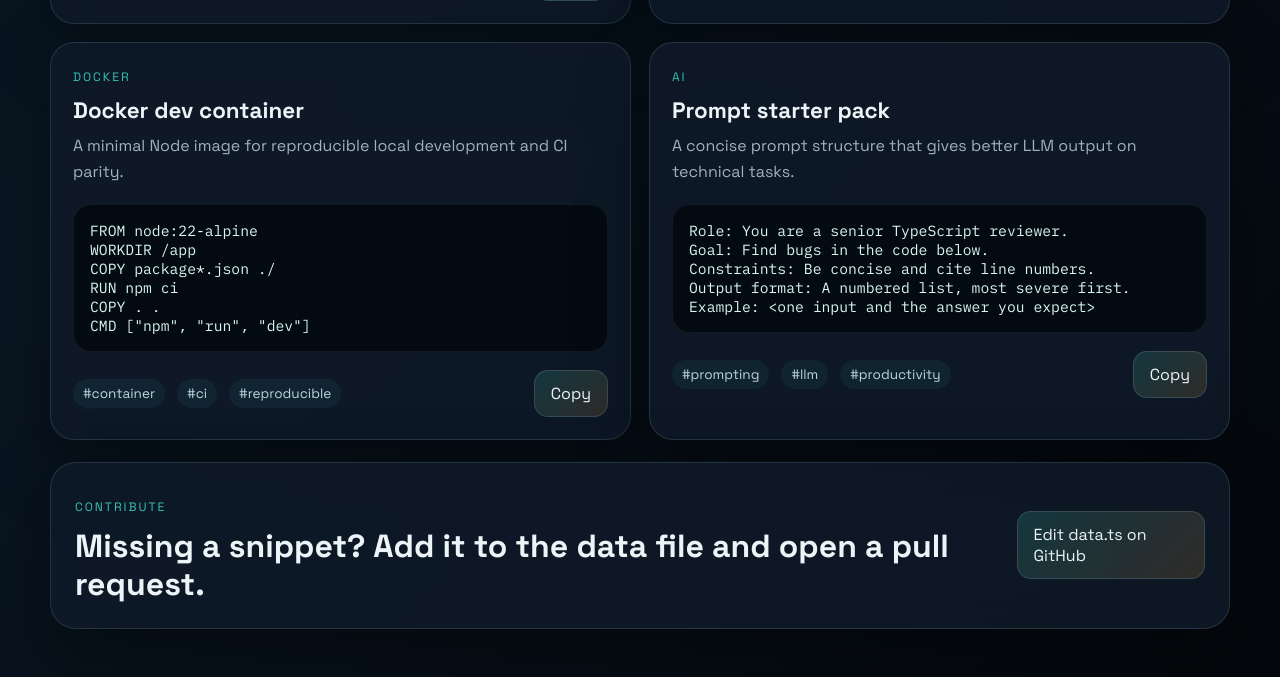
it: copy button › copies the snippet and shows Copied
(page scrolled)
Click the button with aria-label "Copy the Docker dev container snippet" at (571, 393), box [534,370,608,417]
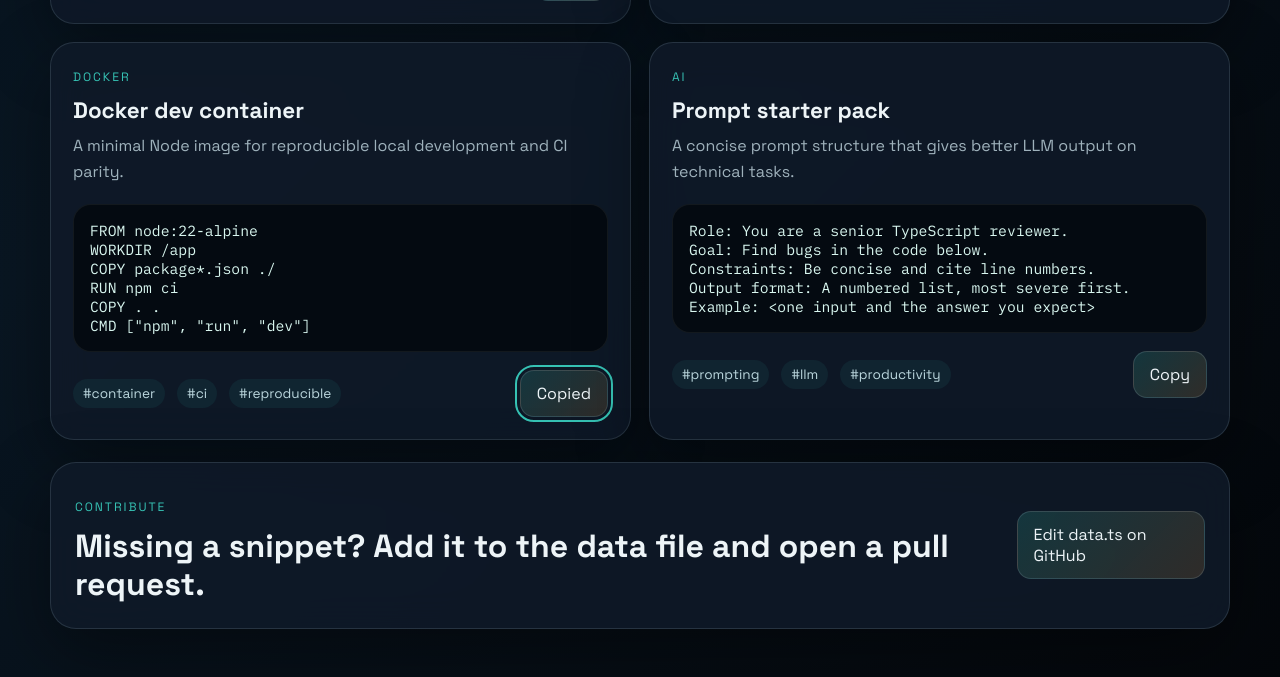
Now the button with aria-label "Copy the Docker dev container snippet" reads "Copied", box [520,370,608,417]
